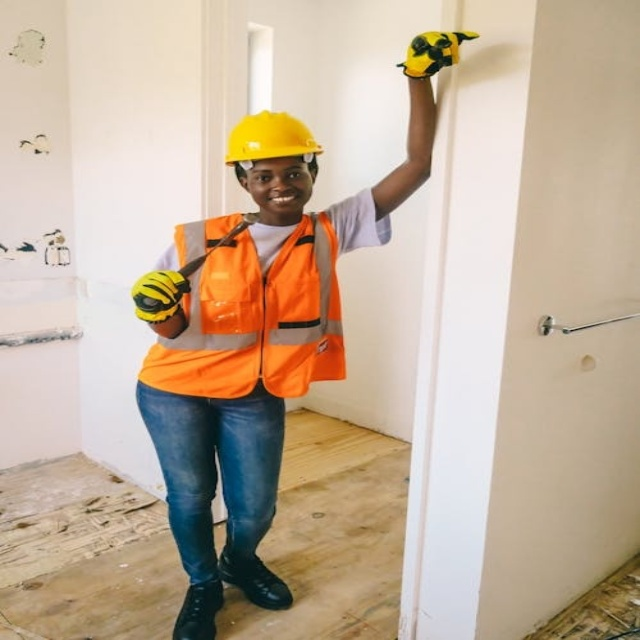Guantes: (396, 30, 482, 79), (131, 270, 189, 323)
Sin_gafas: (250, 168, 311, 184)
Sin_mascara: (257, 193, 303, 209)
